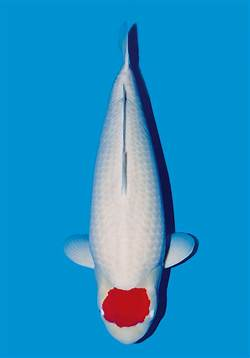sun: (64, 21, 197, 344)
